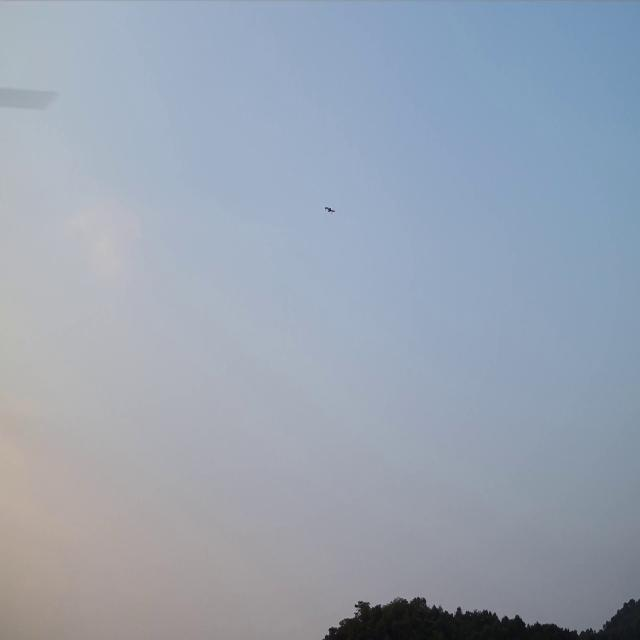UAV: (324, 204, 335, 215)
